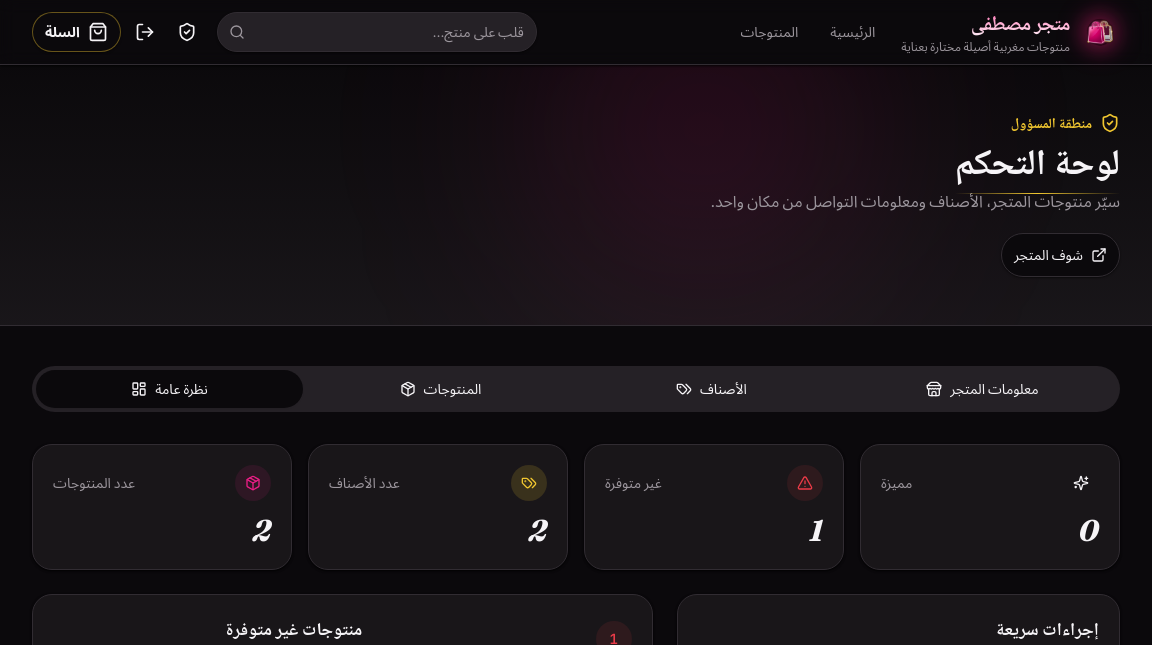
it: admin product management › filters the table by the search box
Click the tab "المنتوجات" at (440, 389), box [307,370,574,408]
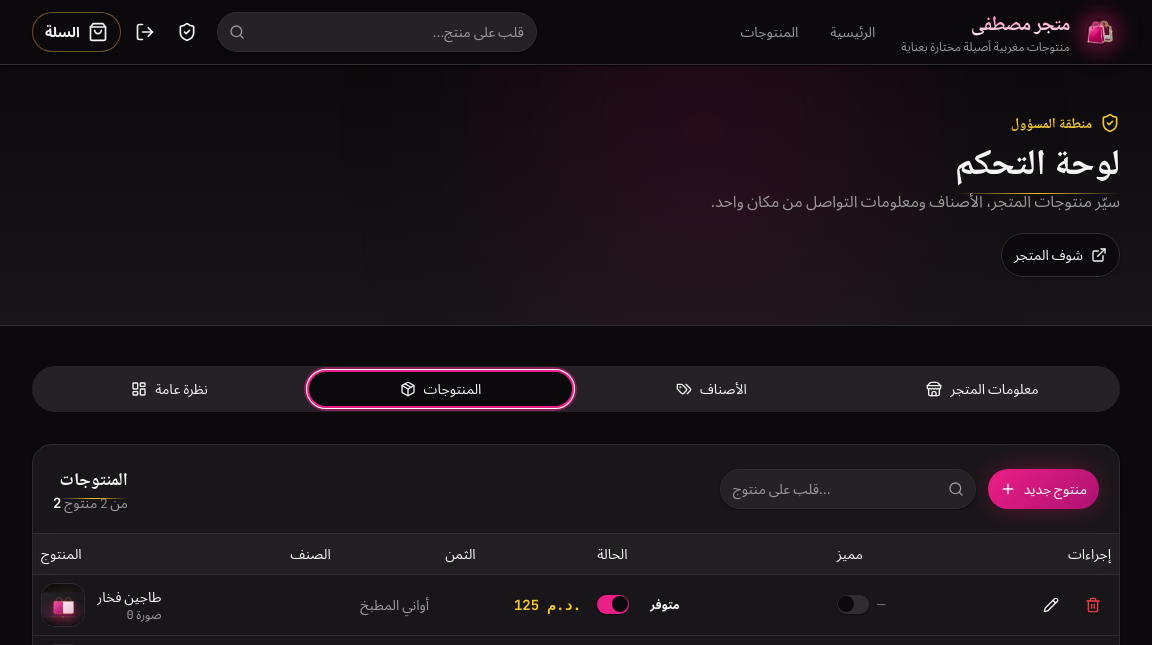
Result: the text "طاجين فخار" is shown at [97,586,162,606]
Type "زربية" into the search field named "البحث في منتوجات لوحة التحكم" at (848, 489), box [720,469,976,509]
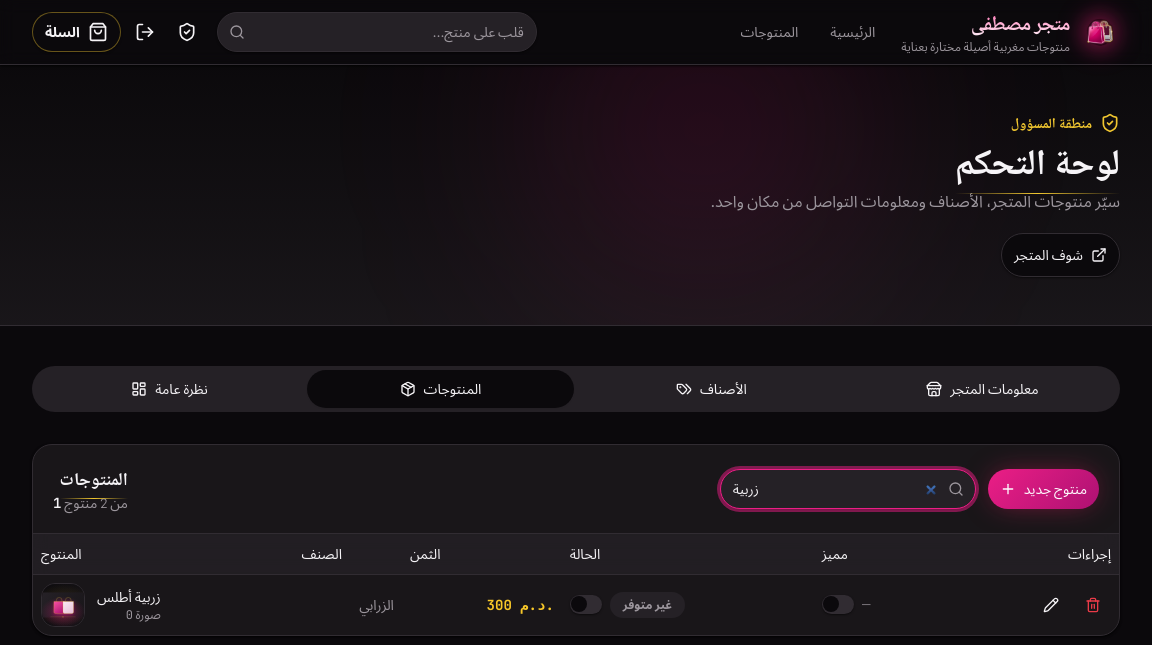
Expected: the text "زربية أطلس" is shown, [97,586,161,606]
Result: the text "طاجين فخار" is gone
